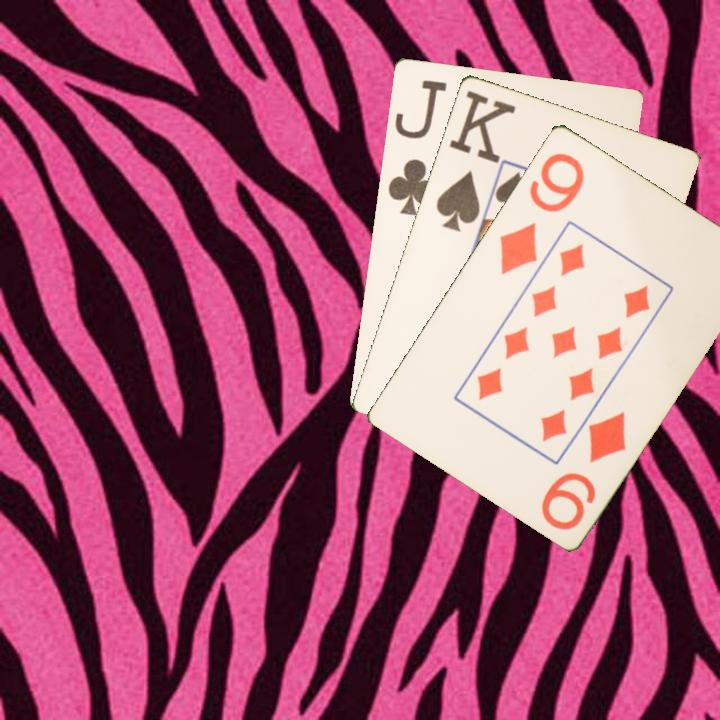9d: (495, 148, 587, 277), (537, 407, 630, 533)
Jc: (384, 76, 449, 218)
Ks: (432, 86, 518, 234)
